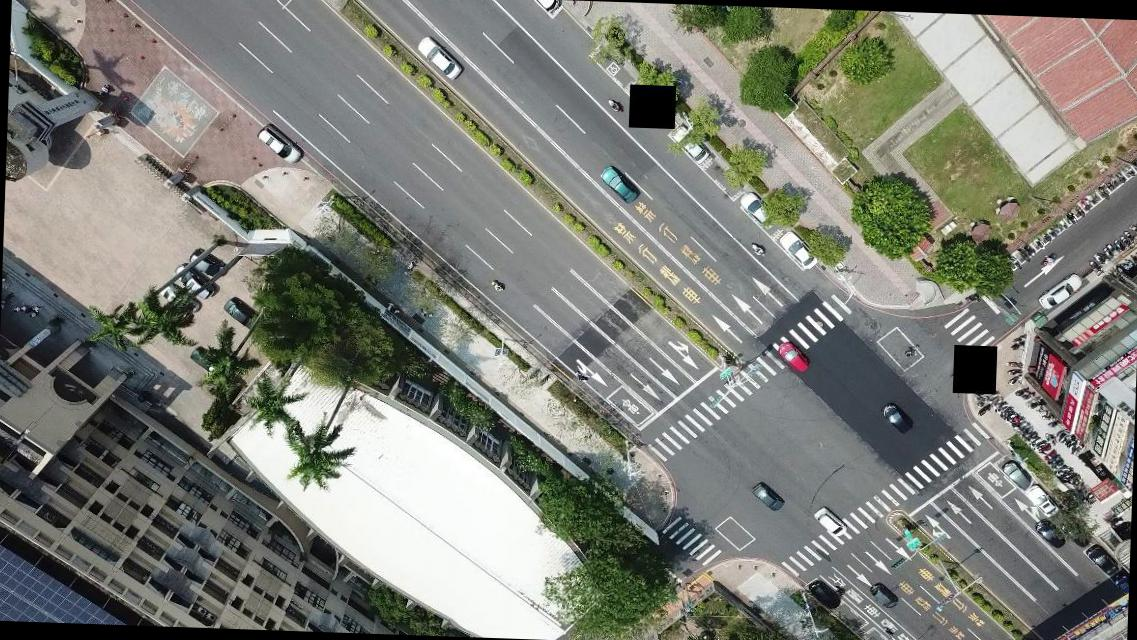vehicle: (257, 119, 304, 163), (417, 33, 462, 78), (1036, 273, 1085, 310), (598, 163, 640, 203), (172, 262, 216, 300), (779, 232, 821, 270), (666, 125, 706, 163), (158, 284, 200, 313), (805, 578, 840, 612), (1025, 484, 1060, 518), (188, 249, 225, 280), (740, 194, 774, 227), (222, 296, 256, 329), (810, 506, 847, 536), (186, 347, 224, 374), (880, 400, 911, 433), (777, 343, 810, 372), (1060, 518, 1094, 546), (1086, 543, 1116, 574), (1002, 459, 1034, 488), (750, 482, 782, 510), (870, 580, 898, 608), (1034, 522, 1064, 548), (530, 0, 562, 16)
